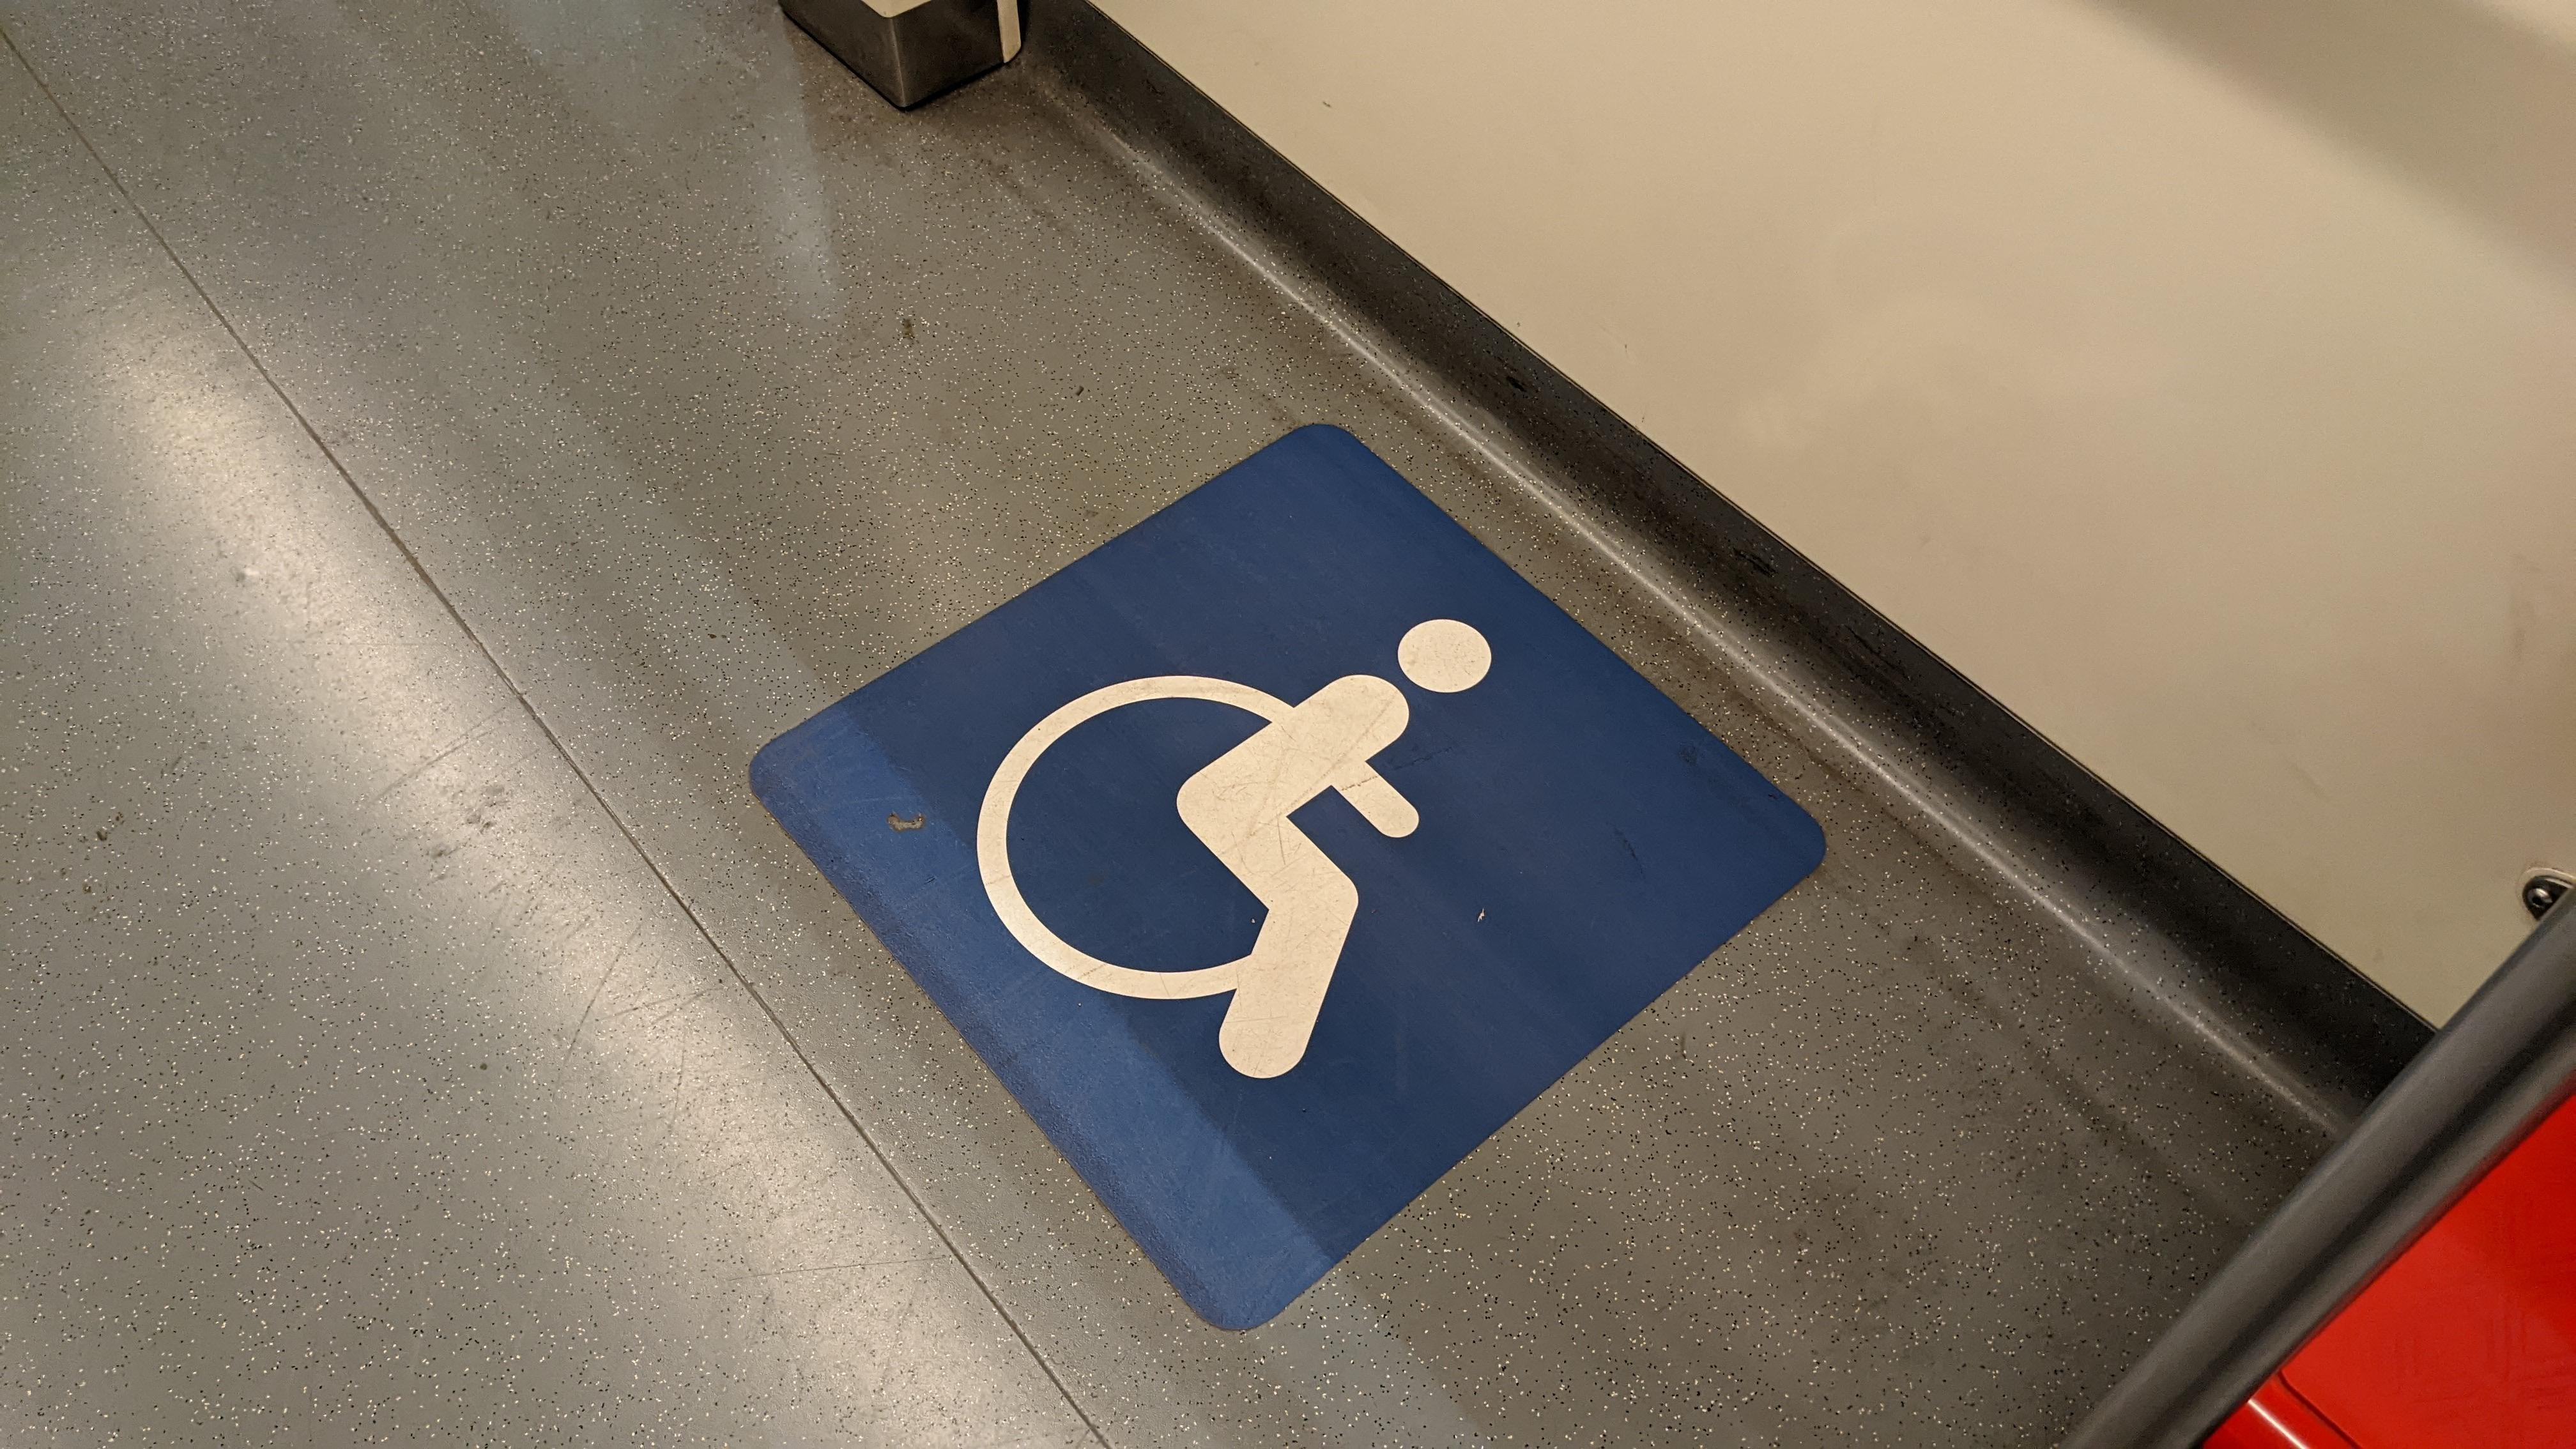handicapped symbol: (970, 610, 1504, 1086)
